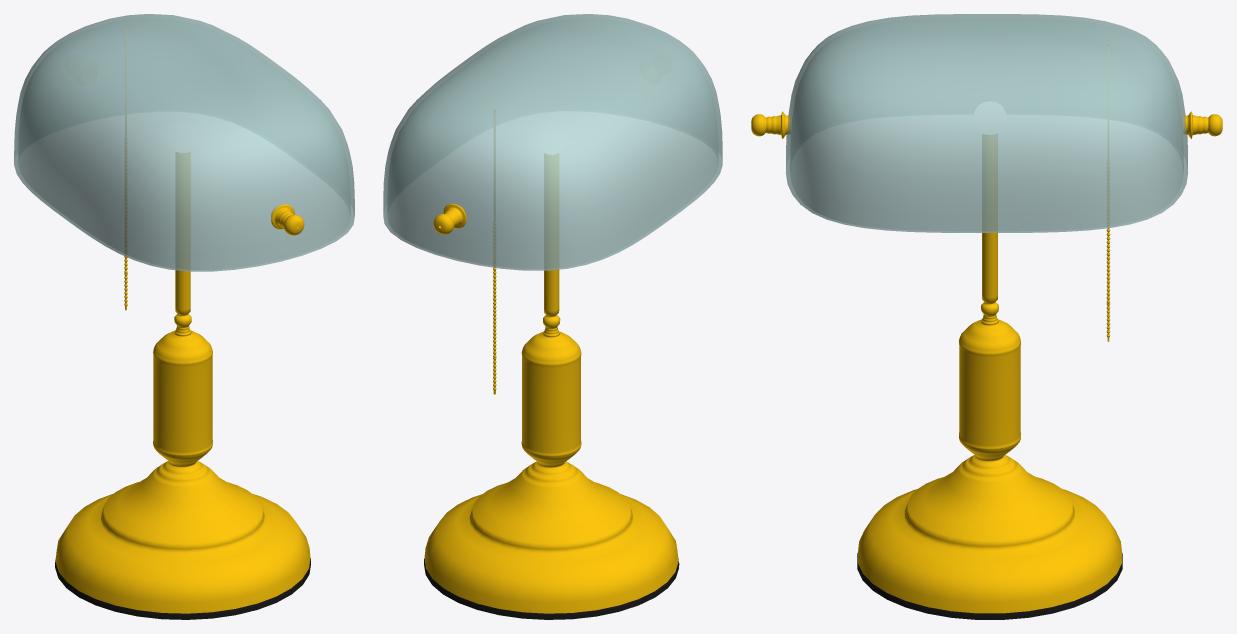
Rendered from office-table-lamp.glb.
3 renders of one model, left to right at view 1: azimuth 30°, elevation 25°; view 2: azimuth 150°, elevation 25°; view 3: azimuth 270°, elevation 25°, orthographic. The views are drawn at different scales.
Parts seen in each view (by area): view 1: table-lamp; view 2: table-lamp; view 3: table-lamp.
Boxes of the visible parts, bbox=[...] form: table-lamp: bbox=[14, 14, 354, 619]; table-lamp: bbox=[383, 14, 722, 619]; table-lamp: bbox=[751, 14, 1222, 619].
Bounding box in the file's own units: 0.1824 × 0.3736 × 0.3026.
